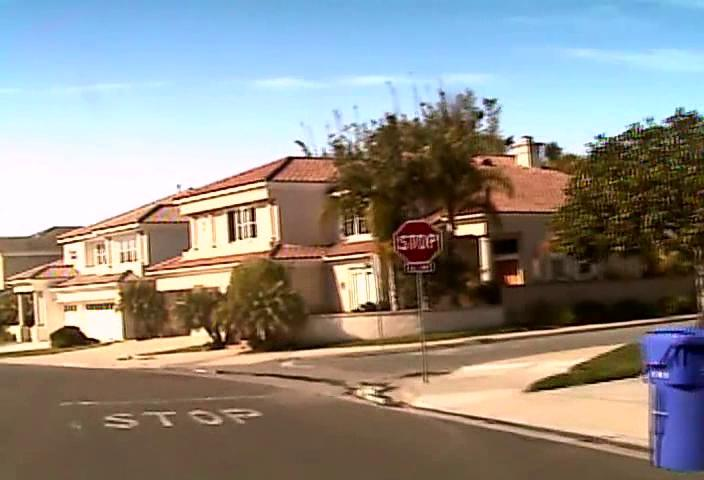stop: (392, 219, 441, 264)
